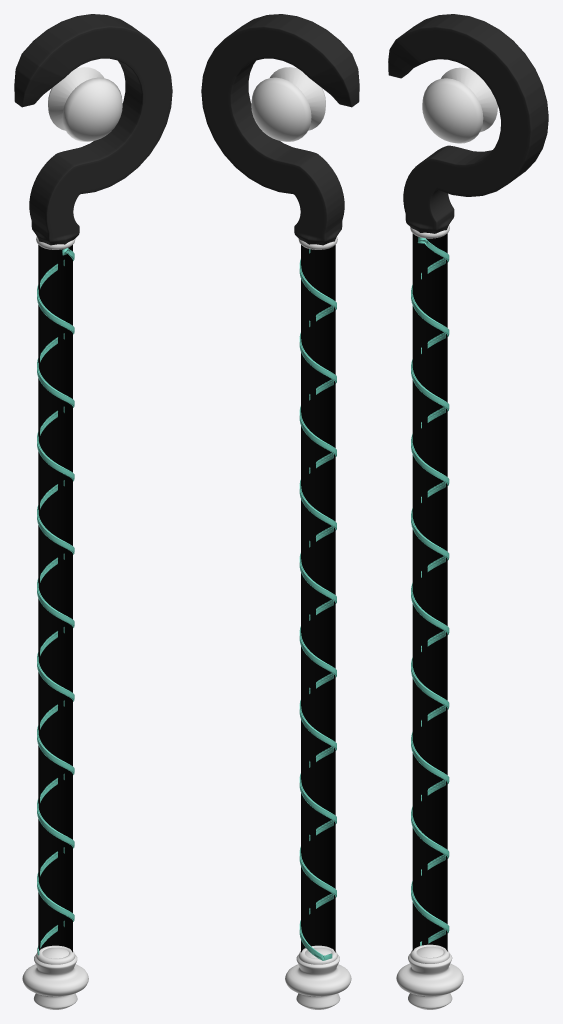
The model's file is uploads_files_2621690_Staff_9_24_2020.fbx.
The picture shows the model from 3 angles, left to right: view 1: azimuth 30°, elevation 25°; view 2: azimuth 150°, elevation 25°; view 3: azimuth 330°, elevation 25°; orthographic projection.
Visible parts, largest first — view 1: Staff_Base, Staff_Top, Strap, Staff_Bot, Sphere, Sphere.002, Sphere.001, Ring Bot; view 2: Staff_Base, Staff_Top, Strap, Sphere, Sphere.001, Staff_Bot, Sphere.002; view 3: Staff_Base, Staff_Top, Strap, Staff_Bot, Sphere, Sphere.002, Sphere.001, Ring Bot.
Part boxes in pixels (left/top/right/bottom): Staff_Base: left=38, top=245, right=72, bottom=952; Staff_Top: left=14, top=14, right=172, bottom=245; Strap: left=37, top=248, right=74, bottom=955; Staff_Bot: left=22, top=947, right=88, bottom=1009; Sphere: left=48, top=67, right=122, bottom=141; Sphere.002: left=48, top=67, right=122, bottom=140; Sphere.001: left=48, top=68, right=118, bottom=141; Ring Bot: left=36, top=945, right=75, bottom=964; Staff_Base: left=301, top=245, right=335, bottom=952; Staff_Top: left=201, top=14, right=359, bottom=245; Strap: left=299, top=249, right=336, bottom=960; Sphere: left=251, top=67, right=325, bottom=141; Sphere.001: left=259, top=67, right=325, bottom=141; Staff_Bot: left=285, top=947, right=351, bottom=1009; Sphere.002: left=251, top=67, right=310, bottom=141; Staff_Base: left=412, top=233, right=447, bottom=951; Staff_Top: left=388, top=14, right=548, bottom=233; Strap: left=411, top=237, right=449, bottom=945; Staff_Bot: left=396, top=946, right=463, bottom=1009; Sphere: left=423, top=67, right=497, bottom=143; Sphere.002: left=431, top=68, right=497, bottom=142; Sphere.001: left=422, top=68, right=497, bottom=142; Ring Bot: left=410, top=944, right=449, bottom=963.
Size of what is drawn, in the model's own units: 285 by 1825 by 127.
